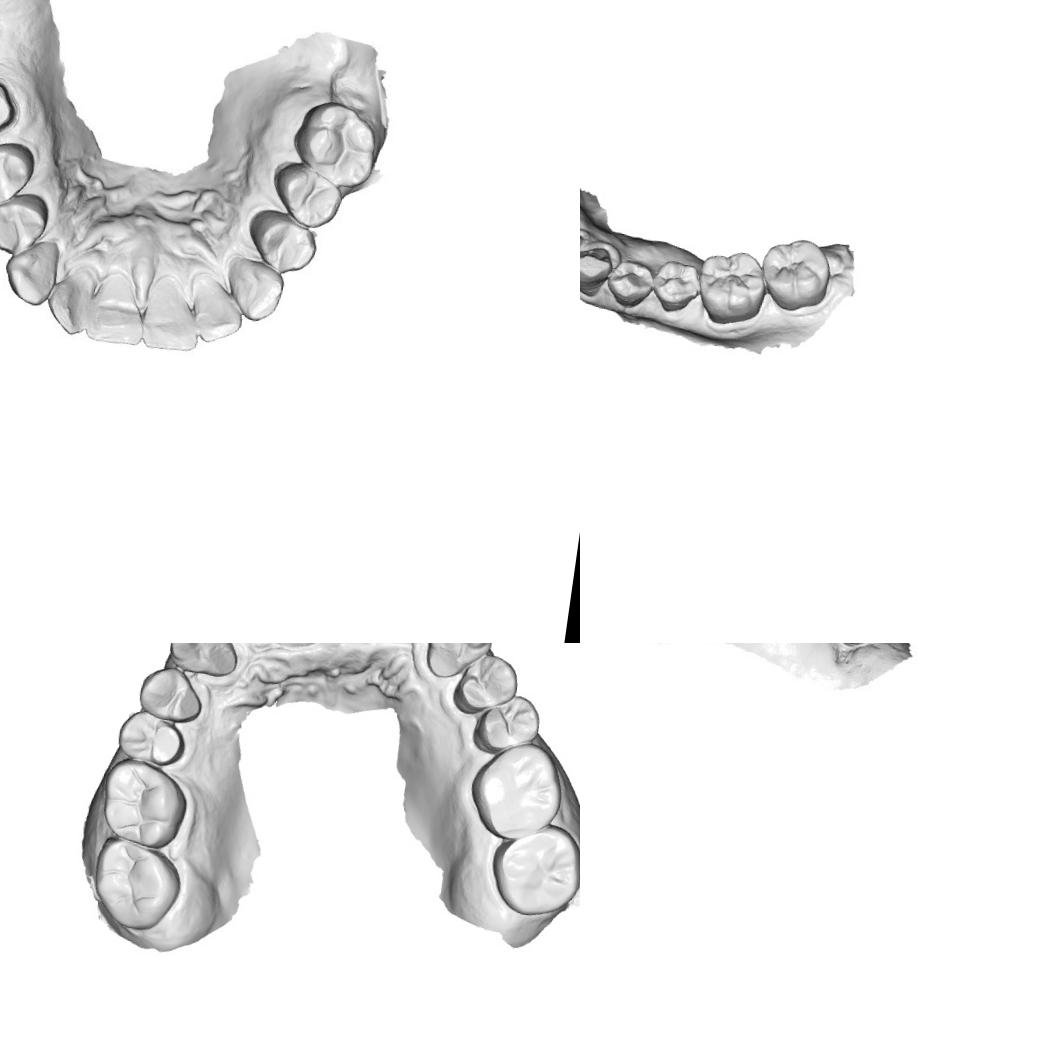canine: (224, 258, 288, 327), (3, 242, 60, 308), (159, 643, 247, 683), (421, 643, 498, 686), (580, 243, 615, 300)
crown: (0, 69, 21, 145)
incisor: (40, 261, 104, 340), (88, 272, 150, 346), (144, 277, 204, 350), (188, 272, 246, 347)
molar: (462, 734, 570, 847), (84, 832, 188, 938), (484, 815, 580, 925), (93, 756, 194, 854), (284, 98, 383, 194), (755, 232, 835, 317), (692, 244, 770, 329)
premolar: (265, 160, 347, 234), (449, 647, 523, 722), (470, 688, 544, 760), (110, 705, 190, 771), (247, 208, 319, 280), (134, 662, 208, 730), (0, 187, 50, 261), (649, 256, 702, 316), (0, 136, 36, 214), (604, 257, 656, 311)
